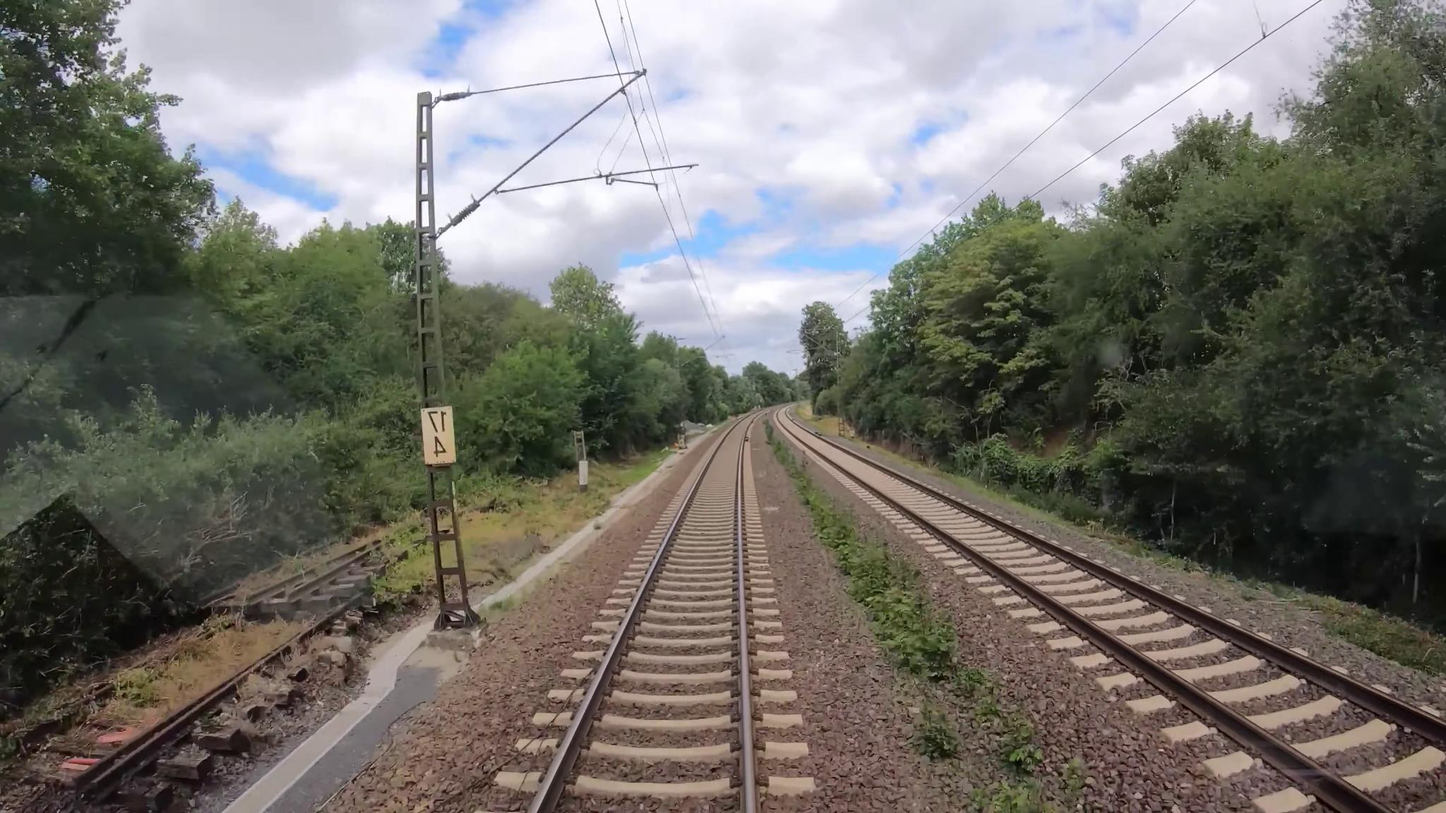Plant: (764, 419, 1096, 810), (1316, 607, 1441, 673)
